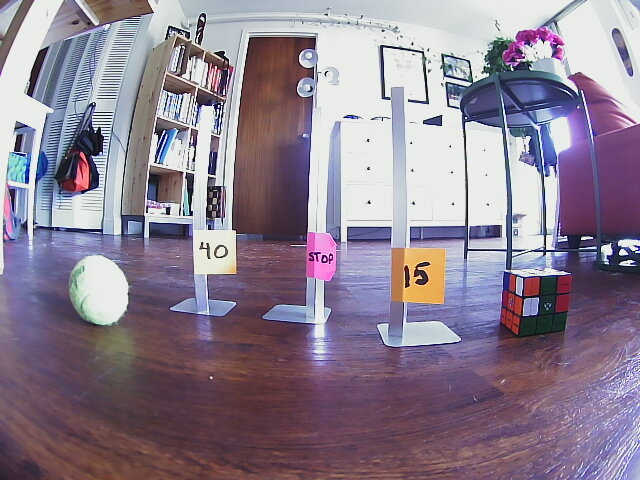15: (388, 244, 449, 308)
40: (190, 228, 239, 277)
ball: (66, 253, 133, 328)
cube: (500, 268, 573, 340)
stop: (301, 231, 339, 284)
